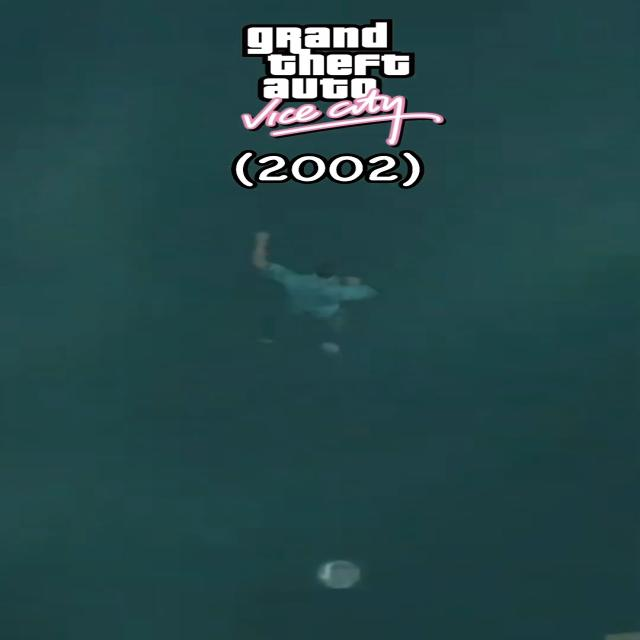drowning: (213, 225, 415, 380)
